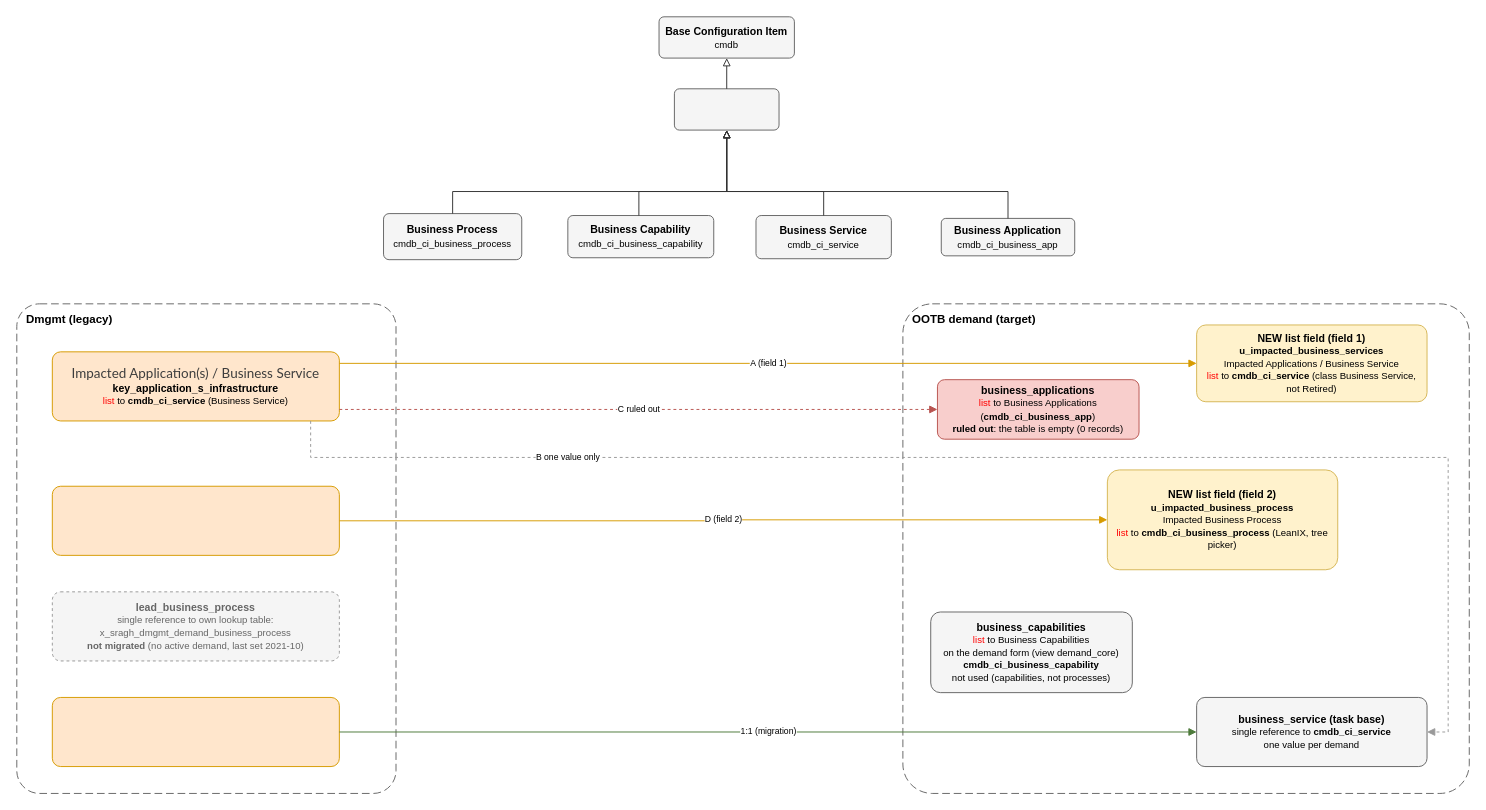
The diagram is 1486 pixels wide and 810 high, and some of its shapes have lost their labels. Each missing label, with the centre of its shape:
"business_service (task base) single reference to cmdb_ci_service" belongs at [195,731].
"Configuration Item cmdb_ci" belongs at [726,109].
"impacted_business_process list to cmdb_ci_business_process" belongs at [195,520].
